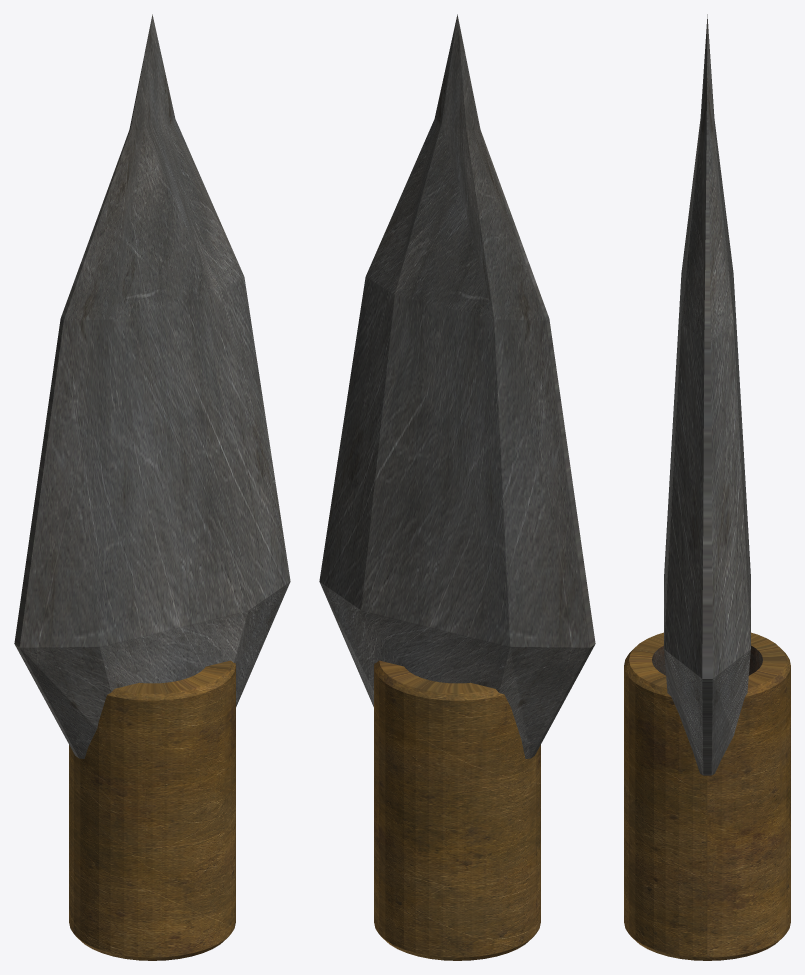
Rendered from small_weapon_head.obj.
The picture shows the model from 3 angles, left to right: view 1: azimuth 30°, elevation 25°; view 2: azimuth 150°, elevation 25°; view 3: azimuth 270°, elevation 25°; orthographic projection.
Parts seen in each view (by area): view 1: blade, socket; view 2: blade, socket; view 3: socket, blade.
Boxes of the visible parts, box(x1,y1,x2,y2) form: blade: box(14, 14, 290, 758); socket: box(69, 660, 235, 960); blade: box(319, 14, 595, 758); socket: box(374, 660, 540, 960); socket: box(624, 632, 790, 960); blade: box(664, 14, 750, 775).
Bounding box in the file's own units: 34.45 × 111 × 18.37.
2 materials, 2 textured.
